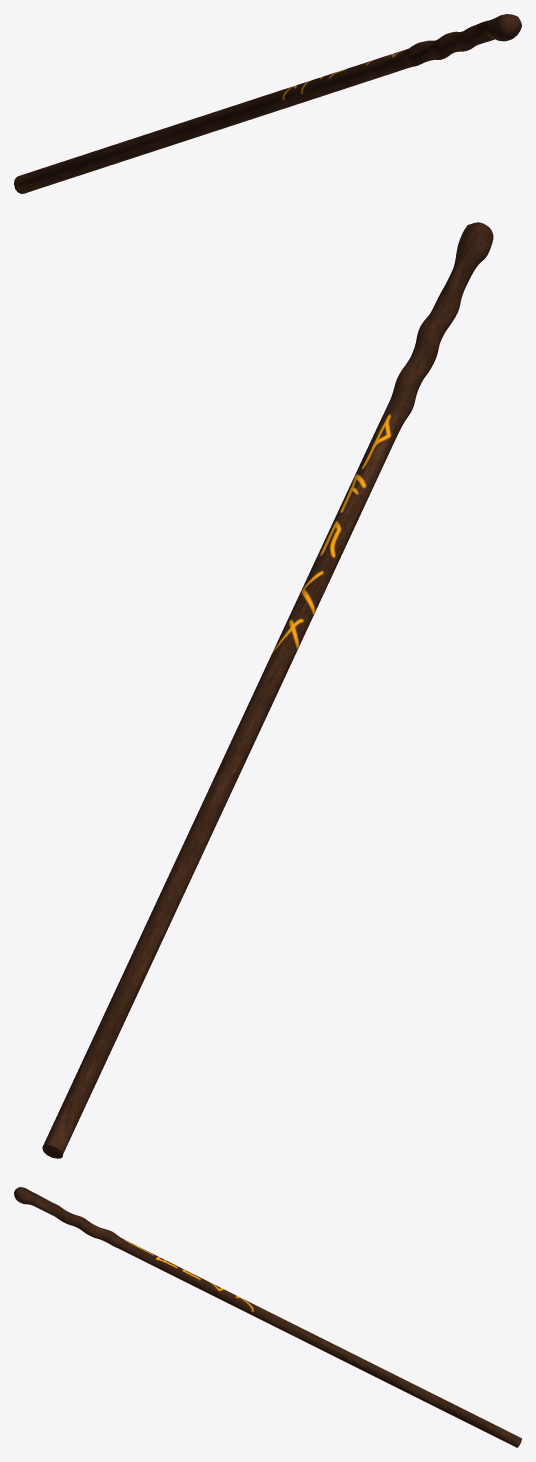
The model's file is Dresden_Staff.fbx.
3 views of the same model, one above another, from view 1: azimuth 30°, elevation 25°; view 2: azimuth 150°, elevation 25°; view 3: azimuth 270°, elevation 25° (orthographic). The views are drawn at different scales.
Parts seen in each view (by area): view 1: staff; view 2: staff; view 3: staff.
Boxes of the visible parts, box(x1,y1,x2,y2) form: staff: box(14, 14, 521, 193); staff: box(42, 222, 493, 1158); staff: box(14, 1187, 521, 1447).
Size of the model in its own units: 24.52 by 135 by 225.
Materials: 1 (1 with a texture image).
